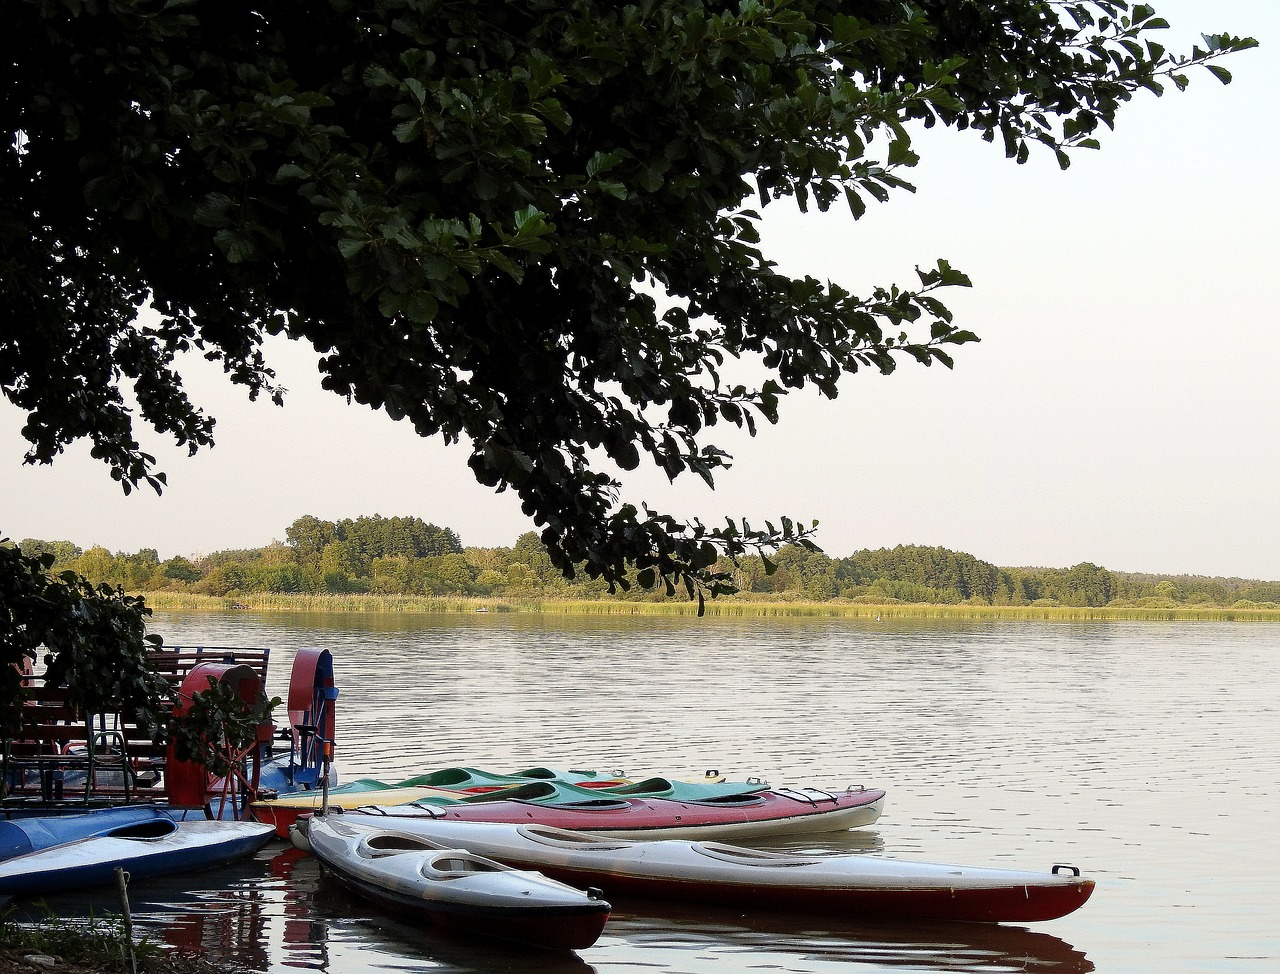kayak: (311, 811, 1104, 924), (302, 814, 618, 962), (1, 817, 281, 907)
